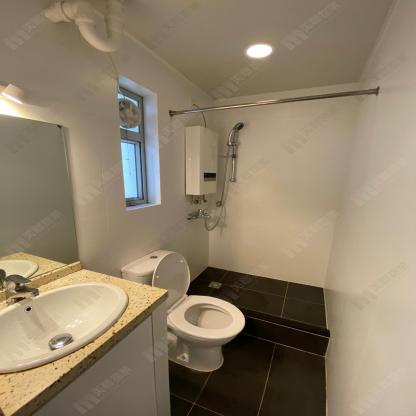Exhaust Fan: (117, 93, 140, 134)
Toilet: (119, 249, 244, 371)
Toilet Sink: (0, 268, 169, 415)
Water Heater: (184, 125, 219, 195)
